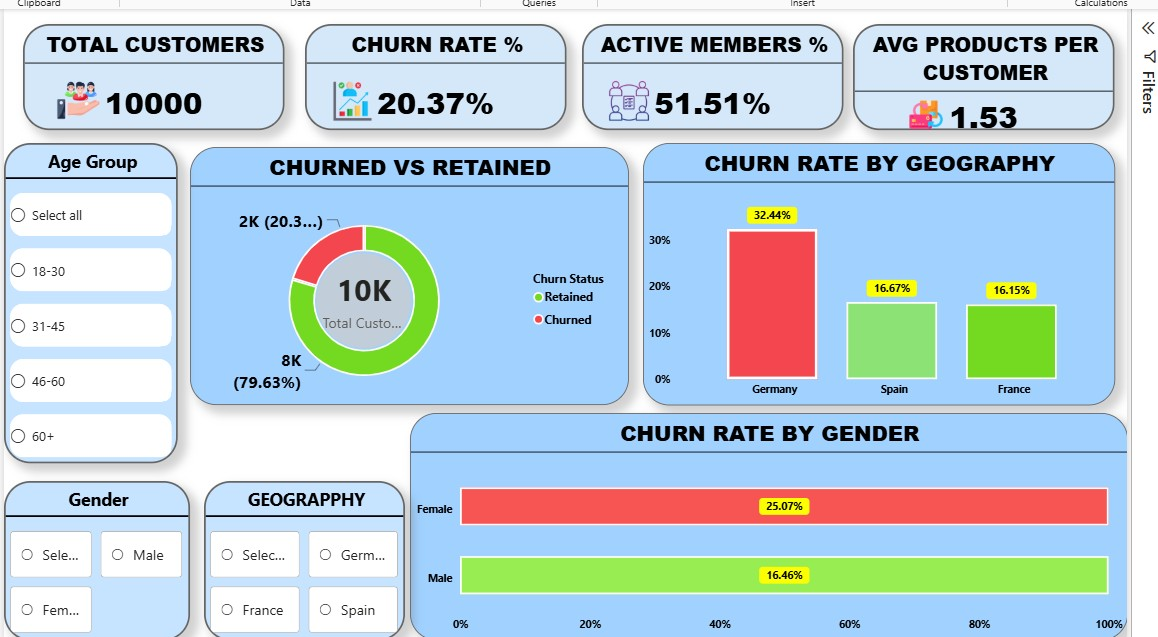

The dashboard page shown, as its layout file describes it:
{"tool":"powerbi","page":{"name":"Overall Churn Analysis","canvas":[1280,720],"ordinal":0},"visuals":[{"type":"kpi","title":"TOTAL CUSTOMERS","fields":{"Indicator":["BANK_CHURN_ANALYSIS.Total Customers"],"TrendLine":["BANK_CHURN_ANALYSIS.Year"]},"box":[21.6,17.5,297.8,121.3],"z":0},{"type":"kpi","title":"ACTIVE MEMBERS %","fields":{"TrendLine":["BANK_CHURN_ANALYSIS.Year"],"Indicator":["BANK_CHURN_ANALYSIS.Active %"]},"box":[658.3,17.6,297.8,121.3],"z":1000},{"type":"kpi","title":"CHURN RATE %","fields":{"TrendLine":["BANK_CHURN_ANALYSIS.Year"],"Indicator":["BANK_CHURN_ANALYSIS.Churn Rate %"]},"box":[342.7,17.6,297.8,121.3],"z":2000},{"type":"kpi","title":"AVG PRODUCTS PER CUSTOMER","fields":{"TrendLine":["BANK_CHURN_ANALYSIS.Year"],"Indicator":["BANK_CHURN_ANALYSIS.Avg Products"]},"box":[967.1,17.6,297.8,121.3],"z":3000},{"type":"donutChart","title":"CHURNED VS RETAINED","fields":{"Category":["BANK_CHURN_ANALYSIS.Churn Status"],"Y":["BANK_CHURN_ANALYSIS.Total Customers"]},"box":[211.5,157.6,499.9,293.7],"z":4000},{"type":"image","box":[43.3,78.6,83.2,51.3],"z":5000},{"type":"image","box":[372.5,82,49,45.6],"z":6000},{"type":"image","box":[688.1,78.6,47.8,52.4],"z":7000},{"type":"image","box":[1026.7,101.1,48.5,37.7],"z":8000},{"type":"clusteredColumnChart","title":"CHURN RATE BY GEOGRAPHY","fields":{"Category":["BANK_CHURN_ANALYSIS.Geography"],"Y":["BANK_CHURN_ANALYSIS.Churn Rate %"]},"box":[727.6,152.3,537.6,299.1],"z":9000},{"type":"hundredPercentStackedBarChart","title":"CHURN RATE BY GENDER","fields":{"Category":["BANK_CHURN_ANALYSIS.Gender"],"Y":["BANK_CHURN_ANALYSIS.Churn Rate %"]},"box":[462.1,460.8,817.9,258.7],"z":10000},{"type":"advancedSlicerVisual","title":"GEOGRAPPHY","fields":{"Values":["BANK_CHURN_ANALYSIS.Geography"]},"box":[227.7,537.6,229.1,181.9],"z":11000},{"type":"advancedSlicerVisual","fields":{"Values":["BANK_CHURN_ANALYSIS.Gender"]},"box":[0,537.6,211.5,181.9],"z":12000},{"type":"listSlicer","fields":{"Values":["BANK_CHURN_ANALYSIS.Age Group"]},"box":[0,152.3,198.1,365.1],"z":13000}]}

Visuals, with their boxes on the page's 1280x720 design canvas (x1, y1, x2, y2). These are canvas units, not pixel positions in the 1158x637 screenshot, which may show the page scaled, cropped or inside an application window:
"TOTAL CUSTOMERS" kpi: (x1=22, y1=18, x2=319, y2=139)
"ACTIVE MEMBERS %" kpi: (x1=658, y1=18, x2=956, y2=139)
"CHURN RATE %" kpi: (x1=343, y1=18, x2=640, y2=139)
"AVG PRODUCTS PER CUSTOMER" kpi: (x1=967, y1=18, x2=1265, y2=139)
"CHURNED VS RETAINED" donutChart: (x1=212, y1=158, x2=711, y2=451)
image: (x1=43, y1=79, x2=126, y2=130)
image: (x1=372, y1=82, x2=422, y2=128)
image: (x1=688, y1=79, x2=736, y2=131)
image: (x1=1027, y1=101, x2=1075, y2=139)
"CHURN RATE BY GEOGRAPHY" clusteredColumnChart: (x1=728, y1=152, x2=1265, y2=451)
"CHURN RATE BY GENDER" hundredPercentStackedBarChart: (x1=462, y1=461, x2=1280, y2=720)
"GEOGRAPPHY" advancedSlicerVisual: (x1=228, y1=538, x2=457, y2=720)
advancedSlicerVisual - BANK_CHURN_ANALYSIS.Gender: (x1=0, y1=538, x2=212, y2=720)
listSlicer - BANK_CHURN_ANALYSIS.Age Group: (x1=0, y1=152, x2=198, y2=517)
